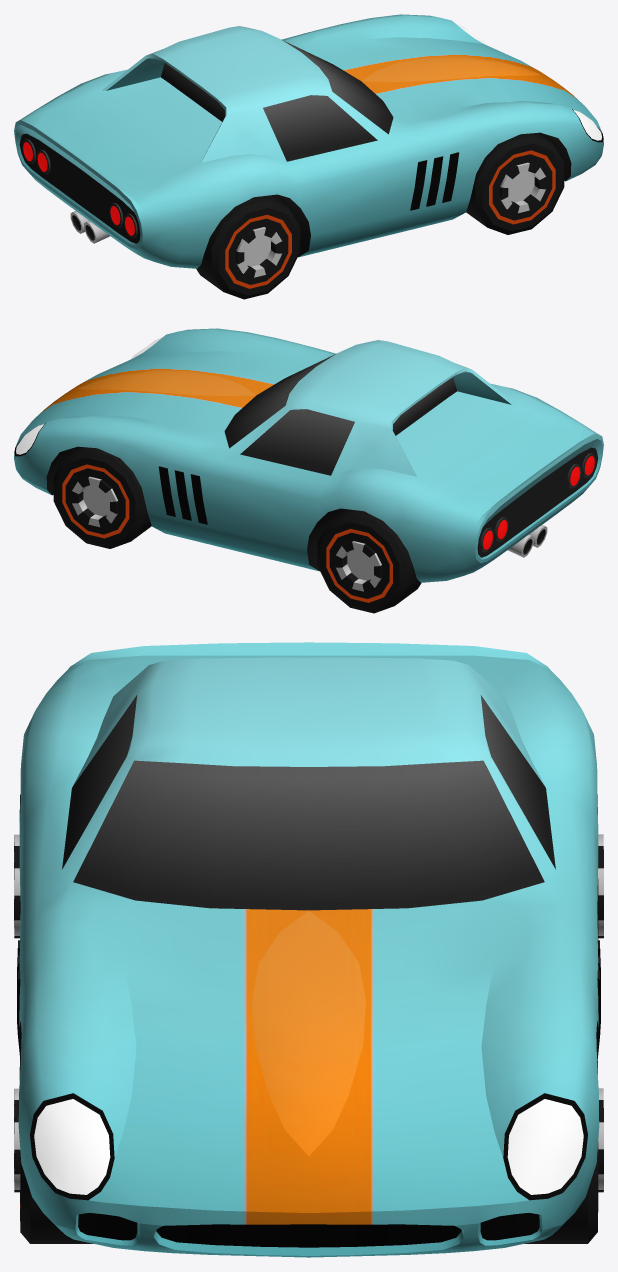
Rendered from RaceCar_105.glb.
The picture shows the model from 3 angles, top to bottom: view 1: azimuth 30°, elevation 25°; view 2: azimuth 150°, elevation 25°; view 3: azimuth 270°, elevation 25°; orthographic projection. The views are drawn at different scales.
Parts seen in each view (by area): view 1: RaceCar_105, wheel_3_RaceCar_105_Wheel_2R, wheel_1_RaceCar_105_Wheel_1R; view 2: RaceCar_105, wheel_2_RaceCar_105_Wheel_2L, wheel_0_RaceCar_105_Wheel_1L; view 3: RaceCar_105, wheel_0_RaceCar_105_Wheel_1L, wheel_1_RaceCar_105_Wheel_1R.
Boxes of the visible parts, x1=… form: RaceCar_105: x1=14, y1=14, x2=603, y2=268; wheel_3_RaceCar_105_Wheel_2R: x1=196, y1=195, x2=300, y2=299; wheel_1_RaceCar_105_Wheel_1R: x1=466, y1=133, x2=564, y2=234; RaceCar_105: x1=14, y1=328, x2=603, y2=582; wheel_2_RaceCar_105_Wheel_2L: x1=317, y1=509, x2=421, y2=613; wheel_0_RaceCar_105_Wheel_1L: x1=53, y1=447, x2=151, y2=548; RaceCar_105: x1=17, y1=642, x2=600, y2=1257; wheel_0_RaceCar_105_Wheel_1L: x1=524, y1=1048, x2=603, y2=1243; wheel_1_RaceCar_105_Wheel_1R: x1=14, y1=1047, x2=93, y2=1243.
Bounding box in the file's own units: 3.5 × 1.16 × 1.85.
4 materials, 4 textured.
